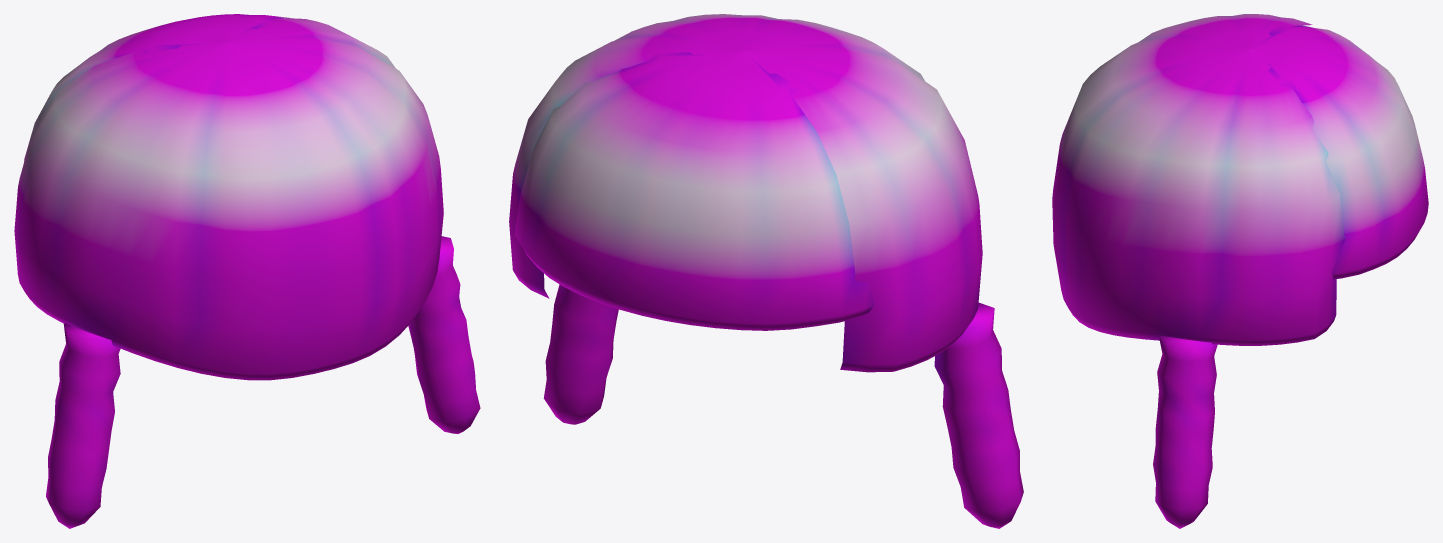
File: pigtails_low.glb
The picture shows the model from 3 angles, left to right: view 1: azimuth 30°, elevation 25°; view 2: azimuth 150°, elevation 25°; view 3: azimuth 270°, elevation 25°; orthographic projection. The views are drawn at different scales.
Visible parts, largest first — view 1: pigtails; view 2: pigtails; view 3: pigtails.
Boxes of the visible parts, box(x1,y1,x2,y2) form: pigtails: box(14, 14, 480, 528); pigtails: box(509, 14, 1023, 528); pigtails: box(1052, 14, 1428, 528).
Size of the model in its own units: 1.04 by 0.9581 by 0.8377.
